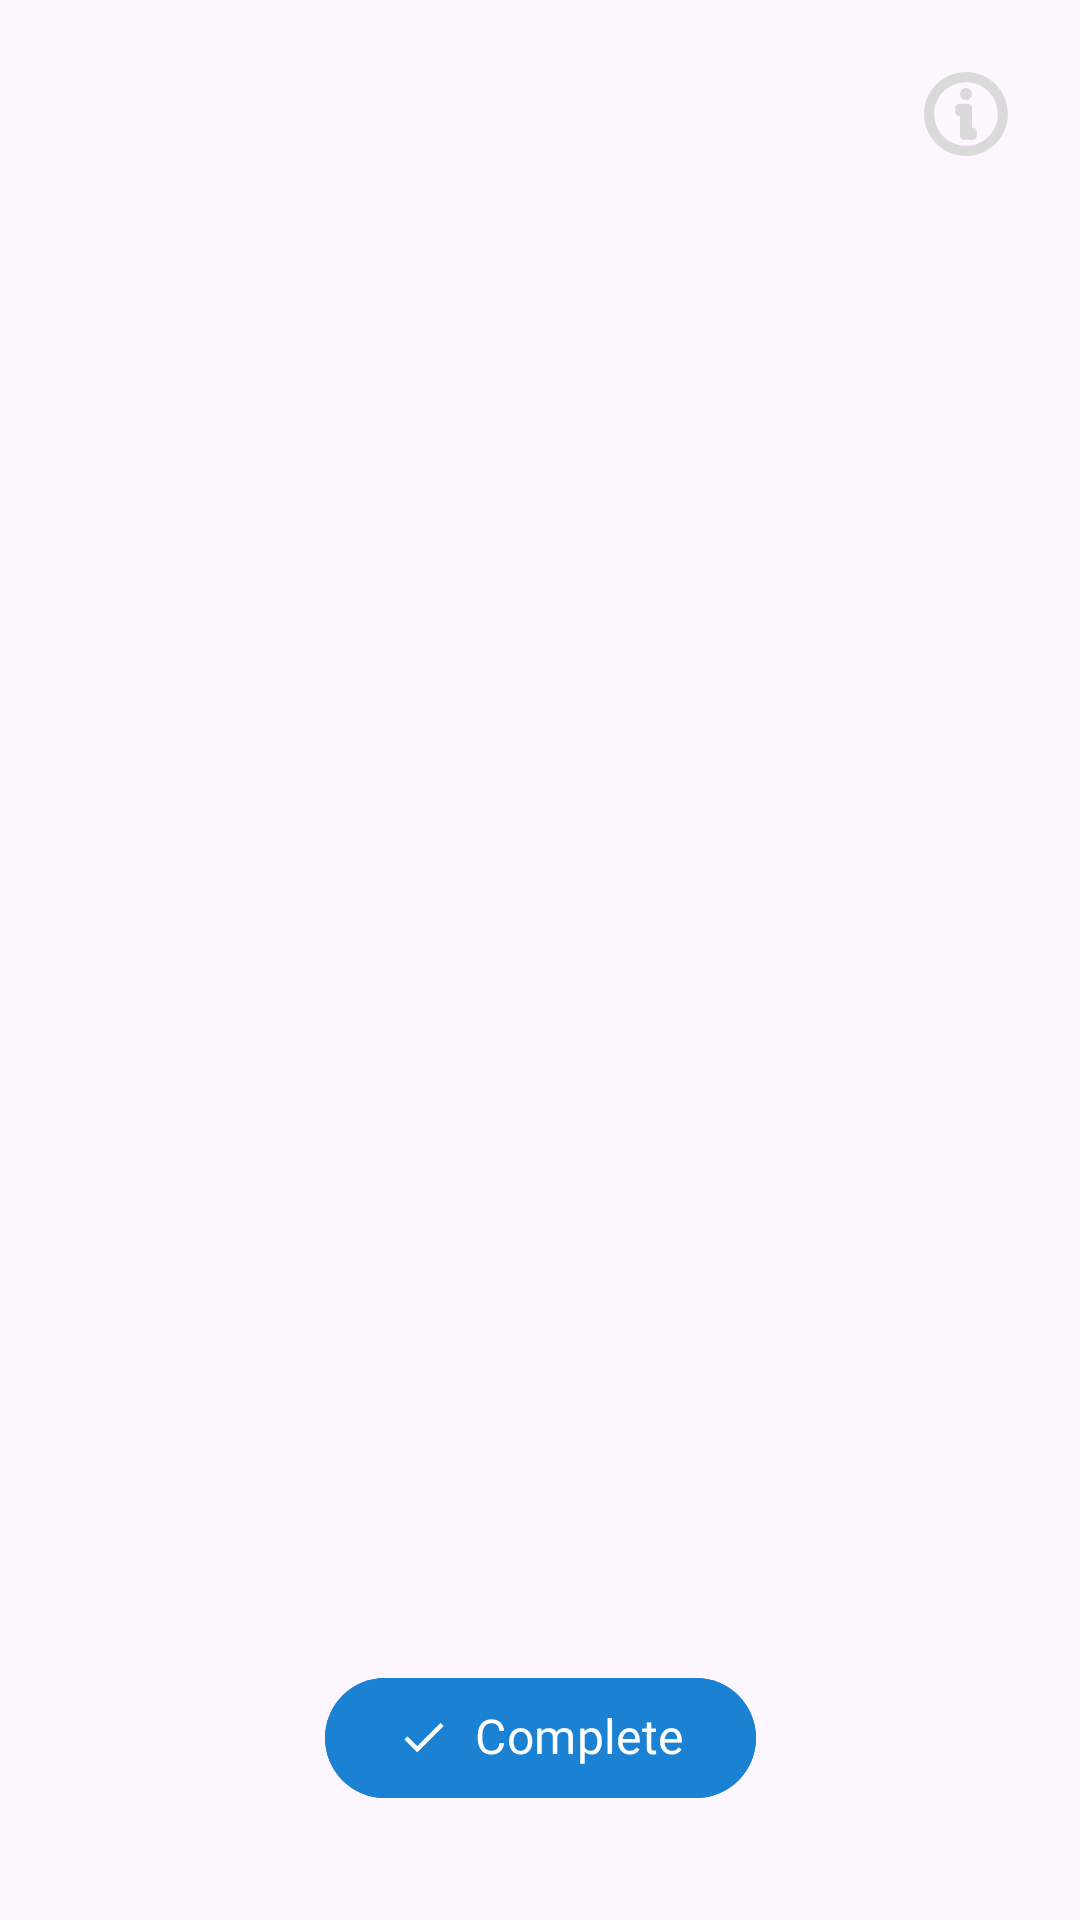

Icon bounding boxes for this 1080×1920 phone screenshot, format (x1, y1, x2, y2):
modal information button: (924, 72, 1008, 156)
